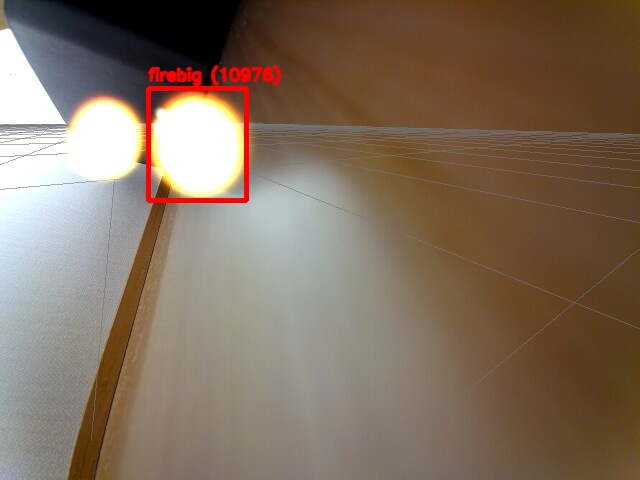firebig: (148, 88, 246, 200)
